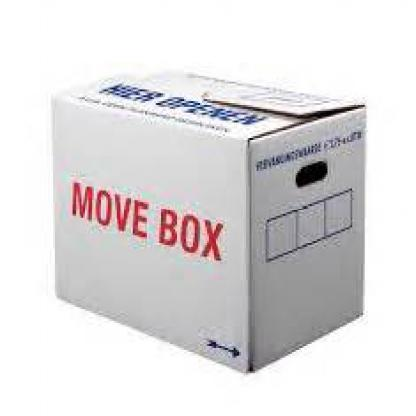box: (50, 62, 370, 375)
